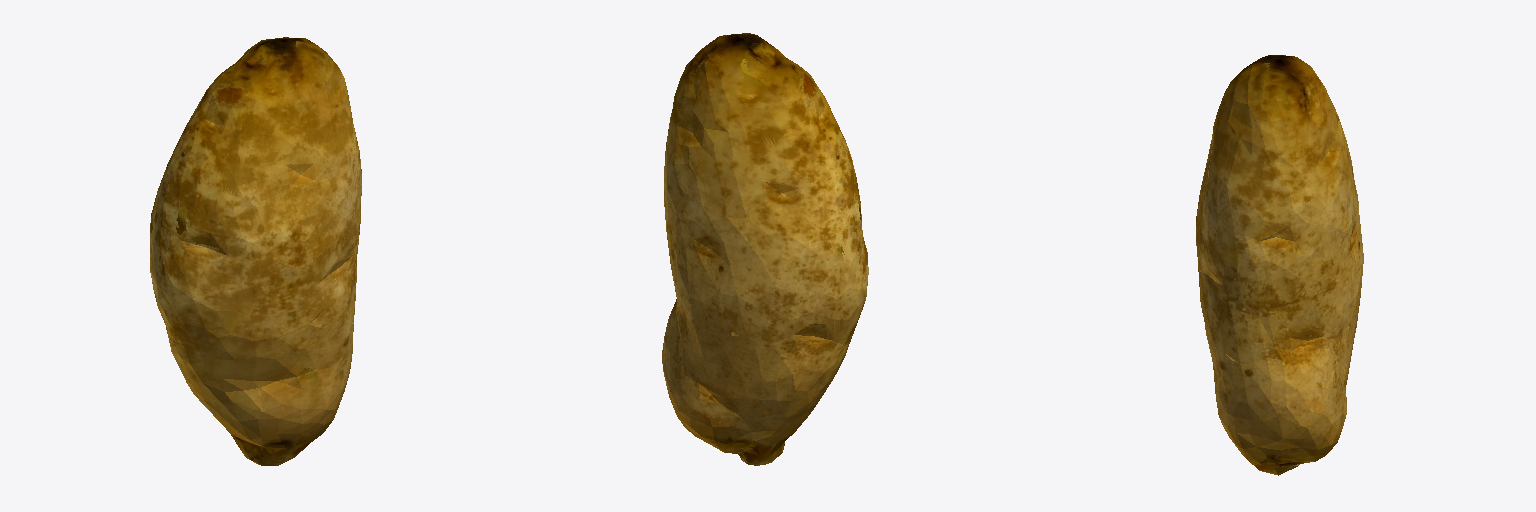
3 views of the same model, side by side, from view 1: azimuth 30°, elevation 25°; view 2: azimuth 150°, elevation 25°; view 3: azimuth 270°, elevation 25° (orthographic).
Visible parts, largest first — view 1: potato; view 2: potato; view 3: potato.
Part boxes in pixels (x1,y1,x2,y2): potato: (150, 37, 361, 465); potato: (662, 33, 868, 465); potato: (1196, 55, 1363, 475).
Bounding box in the file's own units: 0.8671 × 1.82 × 0.6598.
Materials: 1 (1 with a texture image).